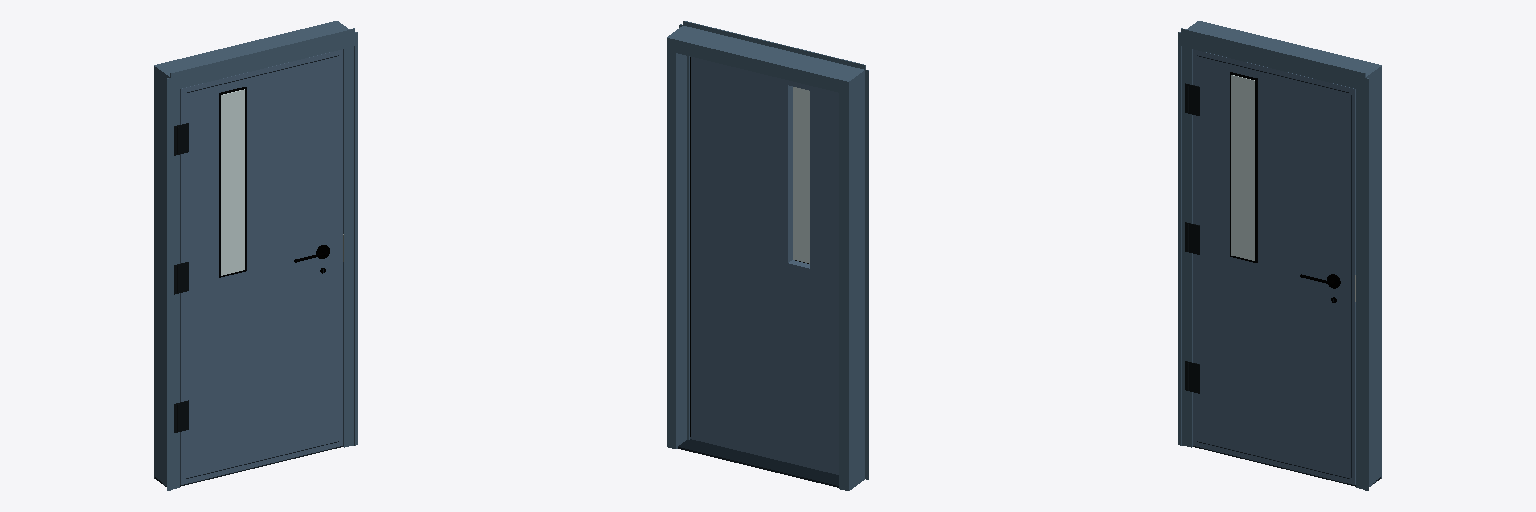
The robot description file, URDF, robot "single_leaf_blue_gray_fire_door":
<robot name="single_leaf_blue_gray_fire_door">
  <material name="matte_blue_gray_paint">
    <color rgba="0.36 0.45 0.53 1" />
    </material>
  <material name="matching_blue_gray_frame">
    <color rgba="0.34 0.43 0.5 1" />
    </material>
  <material name="recess_shadow_blue">
    <color rgba="0.12 0.16 0.19 1" />
    </material>
  <material name="dark_gasket">
    <color rgba="0.035 0.04 0.042 1" />
    </material>
  <material name="matte_black_hardware">
    <color rgba="0.015 0.014 0.013 1" />
    </material>
  <material name="dark_painted_hinge">
    <color rgba="0.09 0.11 0.12 1" />
    </material>
  <material name="brushed_strike_metal">
    <color rgba="0.58 0.6 0.58 1" />
    </material>
  <material name="frosted_translucent_glass">
    <color rgba="0.82 0.88 0.88 0.46" />
    </material>
  <link name="fixed_frame">
    <visual name="left_jamb">
      <origin xyz="-0.0315 0.0025 1.093" rpy="0 0 0" />
      <geometry>
        <box size="0.055 0.16 2.186" />
        </geometry>
      <material name="matching_blue_gray_frame">
        <color rgba="0.34 0.43 0.5 1" />
        </material>
      </visual>
    <visual name="right_jamb">
      <origin xyz="0.9315 0.0025 1.093" rpy="0 0 0" />
      <geometry>
        <box size="0.055 0.16 2.186" />
        </geometry>
      <material name="matching_blue_gray_frame">
        <color rgba="0.34 0.43 0.5 1" />
        </material>
      </visual>
    <visual name="header">
      <origin xyz="0.45 0.0025 2.151" rpy="0 0 0" />
      <geometry>
        <box size="1.018 0.16 0.07" />
        </geometry>
      <material name="matching_blue_gray_frame">
        <color rgba="0.34 0.43 0.5 1" />
        </material>
      </visual>
    <visual name="threshold_sill">
      <origin xyz="0.45 0.0025 0.005" rpy="0 0 0" />
      <geometry>
        <box size="1.018 0.1376 0.01" />
        </geometry>
      <material name="recess_shadow_blue">
        <color rgba="0.12 0.16 0.19 1" />
        </material>
      </visual>
    <visual name="left_stop">
      <origin xyz="0.002 -0.0245 1.064" rpy="0 0 0" />
      <geometry>
        <box size="0.012 0.01 2.104" />
        </geometry>
      <material name="matching_blue_gray_frame">
        <color rgba="0.34 0.43 0.5 1" />
        </material>
      </visual>
    <visual name="right_stop">
      <origin xyz="0.898 -0.0245 1.064" rpy="0 0 0" />
      <geometry>
        <box size="0.012 0.01 2.104" />
        </geometry>
      <material name="matching_blue_gray_frame">
        <color rgba="0.34 0.43 0.5 1" />
        </material>
      </visual>
    <visual name="header_stop">
      <origin xyz="0.45 -0.0245 2.11" rpy="0 0 0" />
      <geometry>
        <box size="0.908 0.01 0.012" />
        </geometry>
      <material name="matching_blue_gray_frame">
        <color rgba="0.34 0.43 0.5 1" />
        </material>
      </visual>
    <visual name="left_seal">
      <origin xyz="0.01 -0.03 1.064" rpy="0 0 0" />
      <geometry>
        <box size="0.004 0.003 2.074" />
        </geometry>
      <material name="dark_gasket">
        <color rgba="0.035 0.04 0.042 1" />
        </material>
      </visual>
    <visual name="right_seal">
      <origin xyz="0.89 -0.03 1.064" rpy="0 0 0" />
      <geometry>
        <box size="0.004 0.003 2.074" />
        </geometry>
      <material name="dark_gasket">
        <color rgba="0.035 0.04 0.042 1" />
        </material>
      </visual>
    <visual name="header_seal">
      <origin xyz="0.45 -0.03 2.102" rpy="0 0 0" />
      <geometry>
        <box size="0.883 0.003 0.004" />
        </geometry>
      <material name="dark_gasket">
        <color rgba="0.035 0.04 0.042 1" />
        </material>
      </visual>
    <visual name="left_casing_trim">
      <origin xyz="-0.069 -0.0805 1.093" rpy="0 0 0" />
      <geometry>
        <box size="0.02 0.006 2.186" />
        </geometry>
      <material name="matching_blue_gray_frame">
        <color rgba="0.34 0.43 0.5 1" />
        </material>
      </visual>
    <visual name="right_casing_trim">
      <origin xyz="0.969 -0.0805 1.093" rpy="0 0 0" />
      <geometry>
        <box size="0.02 0.006 2.186" />
        </geometry>
      <material name="matching_blue_gray_frame">
        <color rgba="0.34 0.43 0.5 1" />
        </material>
      </visual>
    <visual name="header_casing_trim">
      <origin xyz="0.45 -0.0805 2.163" rpy="0 0 0" />
      <geometry>
        <box size="1.018 0.006 0.094" />
        </geometry>
      <material name="matching_blue_gray_frame">
        <color rgba="0.34 0.43 0.5 1" />
        </material>
      </visual>
    <collision name="left_jamb">
      <origin xyz="-0.0315 0.0025 1.093" rpy="0 0 0" />
      <geometry>
        <box size="0.055 0.16 2.186" />
        </geometry>
      </collision>
    <collision name="right_jamb">
      <origin xyz="0.9315 0.0025 1.093" rpy="0 0 0" />
      <geometry>
        <box size="0.055 0.16 2.186" />
        </geometry>
      </collision>
    <collision name="header">
      <origin xyz="0.45 0.0025 2.151" rpy="0 0 0" />
      <geometry>
        <box size="1.018 0.16 0.07" />
        </geometry>
      </collision>
    <collision name="threshold_sill">
      <origin xyz="0.45 0.0025 0.005" rpy="0 0 0" />
      <geometry>
        <box size="1.018 0.1376 0.01" />
        </geometry>
      </collision>
    <collision name="left_stop">
      <origin xyz="0.002 -0.0245 1.064" rpy="0 0 0" />
      <geometry>
        <box size="0.012 0.01 2.104" />
        </geometry>
      </collision>
    <collision name="right_stop">
      <origin xyz="0.898 -0.0245 1.064" rpy="0 0 0" />
      <geometry>
        <box size="0.012 0.01 2.104" />
        </geometry>
      </collision>
    <collision name="header_stop">
      <origin xyz="0.45 -0.0245 2.11" rpy="0 0 0" />
      <geometry>
        <box size="0.908 0.01 0.012" />
        </geometry>
      </collision>
    <collision name="left_seal">
      <origin xyz="0.01 -0.03 1.064" rpy="0 0 0" />
      <geometry>
        <box size="0.004 0.003 2.074" />
        </geometry>
      </collision>
    <collision name="right_seal">
      <origin xyz="0.89 -0.03 1.064" rpy="0 0 0" />
      <geometry>
        <box size="0.004 0.003 2.074" />
        </geometry>
      </collision>
    <collision name="header_seal">
      <origin xyz="0.45 -0.03 2.102" rpy="0 0 0" />
      <geometry>
        <box size="0.883 0.003 0.004" />
        </geometry>
      </collision>
    <collision name="left_casing_trim">
      <origin xyz="-0.069 -0.0805 1.093" rpy="0 0 0" />
      <geometry>
        <box size="0.02 0.006 2.186" />
        </geometry>
      </collision>
    <collision name="right_casing_trim">
      <origin xyz="0.969 -0.0805 1.093" rpy="0 0 0" />
      <geometry>
        <box size="0.02 0.006 2.186" />
        </geometry>
      </collision>
    <collision name="header_casing_trim">
      <origin xyz="0.45 -0.0805 2.163" rpy="0 0 0" />
      <geometry>
        <box size="1.018 0.006 0.094" />
        </geometry>
      </collision>
    </link>
  <link name="door_panel">
    <visual name="door_slab">
      <geometry>
        <mesh filename="assets/meshes/door_panel_slab.obj" />
        </geometry>
      <material name="matte_blue_gray_paint">
        <color rgba="0.36 0.45 0.53 1" />
        </material>
      </visual>
    <visual name="right_perimeter_seam">
      <origin xyz="0.88 0.0068 1.05" rpy="0 0 0" />
      <geometry>
        <box size="0.003 0.0018 2.03" />
        </geometry>
      <material name="recess_shadow_blue">
        <color rgba="0.12 0.16 0.19 1" />
        </material>
      </visual>
    <visual name="top_perimeter_seam">
      <origin xyz="0.45 0.0068 2.072" rpy="0 0 0" />
      <geometry>
        <box size="0.85 0.0018 0.003" />
        </geometry>
      <material name="recess_shadow_blue">
        <color rgba="0.12 0.16 0.19 1" />
        </material>
      </visual>
    <visual name="bottom_perimeter_seam">
      <origin xyz="0.45 0.0068 0.028" rpy="0 0 0" />
      <geometry>
        <box size="0.85 0.0018 0.003" />
        </geometry>
      <material name="recess_shadow_blue">
        <color rgba="0.12 0.16 0.19 1" />
        </material>
      </visual>
    <visual name="lite_left_gasket">
      <origin xyz="0.2155 0.0055 1.54" rpy="0 0 0" />
      <geometry>
        <box size="0.014 0.004 0.978" />
        </geometry>
      <material name="dark_gasket">
        <color rgba="0.035 0.04 0.042 1" />
        </material>
      </visual>
    <visual name="lite_right_gasket">
      <origin xyz="0.3545 0.0055 1.54" rpy="0 0 0" />
      <geometry>
        <box size="0.014 0.004 0.978" />
        </geometry>
      <material name="dark_gasket">
        <color rgba="0.035 0.04 0.042 1" />
        </material>
      </visual>
    <visual name="lite_top_gasket">
      <origin xyz="0.285 0.0055 2.022" rpy="0 0 0" />
      <geometry>
        <box size="0.153 0.004 0.014" />
        </geometry>
      <material name="dark_gasket">
        <color rgba="0.035 0.04 0.042 1" />
        </material>
      </visual>
    <visual name="lite_bottom_gasket">
      <origin xyz="0.285 0.0055 1.058" rpy="0 0 0" />
      <geometry>
        <box size="0.153 0.004 0.014" />
        </geometry>
      <material name="dark_gasket">
        <color rgba="0.035 0.04 0.042 1" />
        </material>
      </visual>
    <collision name="door_slab">
      <geometry>
        <mesh filename="assets/meshes/door_panel_slab.obj" />
        </geometry>
      </collision>
    <collision name="right_perimeter_seam">
      <origin xyz="0.88 0.0068 1.05" rpy="0 0 0" />
      <geometry>
        <box size="0.003 0.0018 2.03" />
        </geometry>
      </collision>
    <collision name="top_perimeter_seam">
      <origin xyz="0.45 0.0068 2.072" rpy="0 0 0" />
      <geometry>
        <box size="0.85 0.0018 0.003" />
        </geometry>
      </collision>
    <collision name="bottom_perimeter_seam">
      <origin xyz="0.45 0.0068 0.028" rpy="0 0 0" />
      <geometry>
        <box size="0.85 0.0018 0.003" />
        </geometry>
      </collision>
    <collision name="lite_left_gasket">
      <origin xyz="0.2155 0.0055 1.54" rpy="0 0 0" />
      <geometry>
        <box size="0.014 0.004 0.978" />
        </geometry>
      </collision>
    <collision name="lite_right_gasket">
      <origin xyz="0.3545 0.0055 1.54" rpy="0 0 0" />
      <geometry>
        <box size="0.014 0.004 0.978" />
        </geometry>
      </collision>
    <collision name="lite_top_gasket">
      <origin xyz="0.285 0.0055 2.022" rpy="0 0 0" />
      <geometry>
        <box size="0.153 0.004 0.014" />
        </geometry>
      </collision>
    <collision name="lite_bottom_gasket">
      <origin xyz="0.285 0.0055 1.058" rpy="0 0 0" />
      <geometry>
        <box size="0.153 0.004 0.014" />
        </geometry>
      </collision>
    </link>
  <link name="vision_lite">
    <visual name="glass_pane">
      <geometry>
        <box size="0.131 0.004 0.956" />
        </geometry>
      <material name="frosted_translucent_glass">
        <color rgba="0.82 0.88 0.88 0.46" />
        </material>
      </visual>
    <collision name="glass_pane">
      <geometry>
        <box size="0.131 0.004 0.956" />
        </geometry>
      </collision>
    </link>
  <link name="handle_back_plate">
    <visual name="back_plate">
      <origin xyz="0 -0.005 0" rpy="1.5708 0 0" />
      <geometry>
        <cylinder radius="0.036" length="0.01" />
        </geometry>
      <material name="matte_black_hardware">
        <color rgba="0.015 0.014 0.013 1" />
        </material>
      </visual>
    <collision name="back_plate">
      <origin xyz="0 -0.005 0" rpy="1.5708 0 0" />
      <geometry>
        <cylinder radius="0.036" length="0.01" />
        </geometry>
      </collision>
    </link>
  <link name="lock_cylinder">
    <visual name="lock_cylinder_face">
      <origin xyz="0 -0.003 0" rpy="1.5708 0 0" />
      <geometry>
        <cylinder radius="0.014" length="0.006" />
        </geometry>
      <material name="matte_black_hardware">
        <color rgba="0.015 0.014 0.013 1" />
        </material>
      </visual>
    <visual name="key_slot">
      <origin xyz="0 -0.0065 0" rpy="0 0 0" />
      <geometry>
        <box size="0.004 0.001 0.018" />
        </geometry>
      <material name="recess_shadow_blue">
        <color rgba="0.12 0.16 0.19 1" />
        </material>
      </visual>
    <collision name="lock_cylinder_face">
      <origin xyz="0 -0.003 0" rpy="1.5708 0 0" />
      <geometry>
        <cylinder radius="0.014" length="0.006" />
        </geometry>
      </collision>
    <collision name="key_slot">
      <origin xyz="0 -0.0065 0" rpy="0 0 0" />
      <geometry>
        <box size="0.004 0.001 0.018" />
        </geometry>
      </collision>
    </link>
  <link name="条形把手">
    <visual name="spindle_neck">
      <origin xyz="0 -0.006 0" rpy="1.5708 0 0" />
      <geometry>
        <cylinder radius="0.011" length="0.012" />
        </geometry>
      <material name="matte_black_hardware">
        <color rgba="0.015 0.014 0.013 1" />
        </material>
      </visual>
    <visual name="lever_hub">
      <origin xyz="0 -0.018 0" rpy="0 0 0" />
      <geometry>
        <sphere radius="0.014" />
        </geometry>
      <material name="matte_black_hardware">
        <color rgba="0.015 0.014 0.013 1" />
        </material>
      </visual>
    <visual name="lever_grip">
      <origin xyz="-0.0825 -0.018 0" rpy="0 1.5708 0" />
      <geometry>
        <cylinder radius="0.007" length="0.165" />
        </geometry>
      <material name="matte_black_hardware">
        <color rgba="0.015 0.014 0.013 1" />
        </material>
      </visual>
    <visual name="rounded_tip">
      <origin xyz="-0.165 -0.018 0" rpy="0 0 0" />
      <geometry>
        <sphere radius="0.008" />
        </geometry>
      <material name="matte_black_hardware">
        <color rgba="0.015 0.014 0.013 1" />
        </material>
      </visual>
    <collision name="spindle_neck">
      <origin xyz="0 -0.006 0" rpy="1.5708 0 0" />
      <geometry>
        <cylinder radius="0.011" length="0.012" />
        </geometry>
      </collision>
    <collision name="lever_hub">
      <origin xyz="0 -0.018 0" rpy="0 0 0" />
      <geometry>
        <sphere radius="0.014" />
        </geometry>
      </collision>
    <collision name="lever_grip">
      <origin xyz="-0.0825 -0.018 0" rpy="0 1.5708 0" />
      <geometry>
        <cylinder radius="0.007" length="0.165" />
        </geometry>
      </collision>
    <collision name="rounded_tip">
      <origin xyz="-0.165 -0.018 0" rpy="0 0 0" />
      <geometry>
        <sphere radius="0.008" />
        </geometry>
      </collision>
    </link>
  <link name="strike_plate">
    <visual name="strike_plate_face">
      <origin xyz="-0.00075 0 0" rpy="0 0 0" />
      <geometry>
        <box size="0.0015 0.05 0.145" />
        </geometry>
      <material name="brushed_strike_metal">
        <color rgba="0.58 0.6 0.58 1" />
        </material>
      </visual>
    <visual name="latch_pocket_shadow">
      <origin xyz="-0.0018 0 0" rpy="0 0 0" />
      <geometry>
        <box size="0.0018 0.018 0.045" />
        </geometry>
      <material name="recess_shadow_blue">
        <color rgba="0.12 0.16 0.19 1" />
        </material>
      </visual>
    <collision name="strike_plate_face">
      <origin xyz="-0.00075 0 0" rpy="0 0 0" />
      <geometry>
        <box size="0.0015 0.05 0.145" />
        </geometry>
      </collision>
    <collision name="latch_pocket_shadow">
      <origin xyz="-0.0018 0 0" rpy="0 0 0" />
      <geometry>
        <box size="0.0018 0.018 0.045" />
        </geometry>
      </collision>
    </link>
  <link name="hinge_leaf_frame_0">
    <visual name="frame_leaf">
      <origin xyz="-0.0175 -0.002 0" rpy="0 0 0" />
      <geometry>
        <box size="0.035 0.004 0.155" />
        </geometry>
      <material name="dark_painted_hinge">
        <color rgba="0.09 0.11 0.12 1" />
        </material>
      </visual>
    <collision name="frame_leaf">
      <origin xyz="-0.0175 -0.002 0" rpy="0 0 0" />
      <geometry>
        <box size="0.035 0.004 0.155" />
        </geometry>
      </collision>
    </link>
  <link name="hinge_pin_0">
    <visual name="pin">
      <origin xyz="-0.016 -0.0075 0" rpy="0 0 0" />
      <geometry>
        <cylinder radius="0.0035" length="0.1426" />
        </geometry>
      <material name="dark_painted_hinge">
        <color rgba="0.09 0.11 0.12 1" />
        </material>
      </visual>
    <collision name="pin">
      <origin xyz="-0.016 -0.0075 0" rpy="0 0 0" />
      <geometry>
        <cylinder radius="0.0035" length="0.1426" />
        </geometry>
      </collision>
    </link>
  <link name="hinge_leaf_panel_0">
    <visual name="panel_leaf">
      <origin xyz="0.0225 -0.002 0" rpy="0 0 0" />
      <geometry>
        <box size="0.045 0.004 0.155" />
        </geometry>
      <material name="dark_painted_hinge">
        <color rgba="0.09 0.11 0.12 1" />
        </material>
      </visual>
    <collision name="panel_leaf">
      <origin xyz="0.0225 -0.002 0" rpy="0 0 0" />
      <geometry>
        <box size="0.045 0.004 0.155" />
        </geometry>
      </collision>
    </link>
  <link name="hinge_leaf_frame_1">
    <visual name="frame_leaf">
      <origin xyz="-0.0175 -0.002 0" rpy="0 0 0" />
      <geometry>
        <box size="0.035 0.004 0.155" />
        </geometry>
      <material name="dark_painted_hinge">
        <color rgba="0.09 0.11 0.12 1" />
        </material>
      </visual>
    <collision name="frame_leaf">
      <origin xyz="-0.0175 -0.002 0" rpy="0 0 0" />
      <geometry>
        <box size="0.035 0.004 0.155" />
        </geometry>
      </collision>
    </link>
  <link name="hinge_pin_1">
    <visual name="pin">
      <origin xyz="-0.016 -0.0075 0" rpy="0 0 0" />
      <geometry>
        <cylinder radius="0.0035" length="0.1426" />
        </geometry>
      <material name="dark_painted_hinge">
        <color rgba="0.09 0.11 0.12 1" />
        </material>
      </visual>
    <collision name="pin">
      <origin xyz="-0.016 -0.0075 0" rpy="0 0 0" />
      <geometry>
        <cylinder radius="0.0035" length="0.1426" />
        </geometry>
      </collision>
    </link>
  <link name="hinge_leaf_panel_1">
    <visual name="panel_leaf">
      <origin xyz="0.0225 -0.002 0" rpy="0 0 0" />
      <geometry>
        <box size="0.045 0.004 0.155" />
        </geometry>
      <material name="dark_painted_hinge">
        <color rgba="0.09 0.11 0.12 1" />
        </material>
      </visual>
    <collision name="panel_leaf">
      <origin xyz="0.0225 -0.002 0" rpy="0 0 0" />
      <geometry>
        <box size="0.045 0.004 0.155" />
        </geometry>
      </collision>
    </link>
  <link name="hinge_leaf_frame_2">
    <visual name="frame_leaf">
      <origin xyz="-0.0175 -0.002 0" rpy="0 0 0" />
      <geometry>
        <box size="0.035 0.004 0.155" />
        </geometry>
      <material name="dark_painted_hinge">
        <color rgba="0.09 0.11 0.12 1" />
        </material>
      </visual>
    <collision name="frame_leaf">
      <origin xyz="-0.0175 -0.002 0" rpy="0 0 0" />
      <geometry>
        <box size="0.035 0.004 0.155" />
        </geometry>
      </collision>
    </link>
  <link name="hinge_pin_2">
    <visual name="pin">
      <origin xyz="-0.016 -0.0075 0" rpy="0 0 0" />
      <geometry>
        <cylinder radius="0.0035" length="0.1426" />
        </geometry>
      <material name="dark_painted_hinge">
        <color rgba="0.09 0.11 0.12 1" />
        </material>
      </visual>
    <collision name="pin">
      <origin xyz="-0.016 -0.0075 0" rpy="0 0 0" />
      <geometry>
        <cylinder radius="0.0035" length="0.1426" />
        </geometry>
      </collision>
    </link>
  <link name="hinge_leaf_panel_2">
    <visual name="panel_leaf">
      <origin xyz="0.0225 -0.002 0" rpy="0 0 0" />
      <geometry>
        <box size="0.045 0.004 0.155" />
        </geometry>
      <material name="dark_painted_hinge">
        <color rgba="0.09 0.11 0.12 1" />
        </material>
      </visual>
    <collision name="panel_leaf">
      <origin xyz="0.0225 -0.002 0" rpy="0 0 0" />
      <geometry>
        <box size="0.045 0.004 0.155" />
        </geometry>
      </collision>
    </link>
  <joint name="door_hinge_joint" type="revolute">
    <origin xyz="0 -0.085 0.012" rpy="0 0 0" />
    <parent link="fixed_frame" />
    <child link="door_panel" />
    <axis xyz="0 0 -1" />
    <limit effort="70" velocity="1.2" lower="0" upper="1.8326" />
    </joint>
  <joint name="door_to_vision_lite" type="fixed">
    <origin xyz="0.285 0.0015 1.54" rpy="0 0 0" />
    <parent link="door_panel" />
    <child link="vision_lite" />
    </joint>
  <joint name="door_to_handle_back_plate" type="fixed">
    <origin xyz="0.785 0.0075 1.055" rpy="0 0 0" />
    <parent link="door_panel" />
    <child link="handle_back_plate" />
    </joint>
  <joint name="door_to_lock_cylinder" type="fixed">
    <origin xyz="0.785 0.0075 0.955" rpy="0 0 0" />
    <parent link="door_panel" />
    <child link="lock_cylinder" />
    </joint>
  <joint name="handle_actuation_joint" type="revolute">
    <origin xyz="0.785 -0.0025 1.055" rpy="0 0 0" />
    <parent link="door_panel" />
    <child link="条形把手" />
    <axis xyz="0 -1 0" />
    <limit effort="2" velocity="4" lower="0" upper="0.610865" />
    </joint>
  <joint name="frame_to_strike_plate" type="fixed">
    <origin xyz="0.904 -0.055 1.055" rpy="0 0 0" />
    <parent link="fixed_frame" />
    <child link="strike_plate" />
    </joint>
  <joint name="frame_hinge_leaf_0_mount" type="fixed">
    <origin xyz="-0.004 -0.0775 0.375" rpy="0 0 0" />
    <parent link="fixed_frame" />
    <child link="hinge_leaf_frame_0" />
    </joint>
  <joint name="hinge_pin_0_mount" type="fixed">
    <parent link="hinge_leaf_frame_0" />
    <child link="hinge_pin_0" />
    </joint>
  <joint name="door_hinge_leaf_0_mount" type="fixed">
    <origin xyz="-0.004 0.0075 0.363" rpy="0 0 0" />
    <parent link="door_panel" />
    <child link="hinge_leaf_panel_0" />
    </joint>
  <joint name="frame_hinge_leaf_1_mount" type="fixed">
    <origin xyz="-0.004 -0.0775 1.11" rpy="0 0 0" />
    <parent link="fixed_frame" />
    <child link="hinge_leaf_frame_1" />
    </joint>
  <joint name="hinge_pin_1_mount" type="fixed">
    <parent link="hinge_leaf_frame_1" />
    <child link="hinge_pin_1" />
    </joint>
  <joint name="door_hinge_leaf_1_mount" type="fixed">
    <origin xyz="-0.004 0.0075 1.098" rpy="0 0 0" />
    <parent link="door_panel" />
    <child link="hinge_leaf_panel_1" />
    </joint>
  <joint name="frame_hinge_leaf_2_mount" type="fixed">
    <origin xyz="-0.004 -0.0775 1.845" rpy="0 0 0" />
    <parent link="fixed_frame" />
    <child link="hinge_leaf_frame_2" />
    </joint>
  <joint name="hinge_pin_2_mount" type="fixed">
    <parent link="hinge_leaf_frame_2" />
    <child link="hinge_pin_2" />
    </joint>
  <joint name="door_hinge_leaf_2_mount" type="fixed">
    <origin xyz="-0.004 0.0075 1.833" rpy="0 0 0" />
    <parent link="door_panel" />
    <child link="hinge_leaf_panel_2" />
    </joint>
  </robot>

--- What the picture shows (computed from the rendered views, not written in the file) ---
Views: 3 orthographic renders of the robot side by side, from view 1: azimuth 30°, elevation 25°; view 2: azimuth 150°, elevation 25°; view 3: azimuth 330°, elevation 25°.
Model single_leaf_blue_gray_fire_door with 16 links and 15 joints (2 revolute, 13 fixed), rooted at fixed_frame, posed every joint at zero.
Visible links, largest first — view 1: door_panel, fixed_frame, vision_lite; view 2: door_panel, fixed_frame, vision_lite; view 3: door_panel, fixed_frame, vision_lite.
Link boxes in pixels (bbox=[...]): door_panel: bbox=[180, 49, 342, 484]; fixed_frame: bbox=[154, 21, 357, 490]; vision_lite: bbox=[221, 89, 244, 275]; door_panel: bbox=[690, 57, 838, 474]; fixed_frame: bbox=[667, 21, 868, 490]; vision_lite: bbox=[793, 87, 809, 263]; door_panel: bbox=[1193, 49, 1355, 484]; fixed_frame: bbox=[1178, 21, 1381, 490]; vision_lite: bbox=[1231, 75, 1254, 260].
Bounding box of the posed robot: 1.06 × 0.202 × 2.21 m (x, y, z).
1 mesh visuals loaded from 1 distinct referenced files (1 OBJ).
